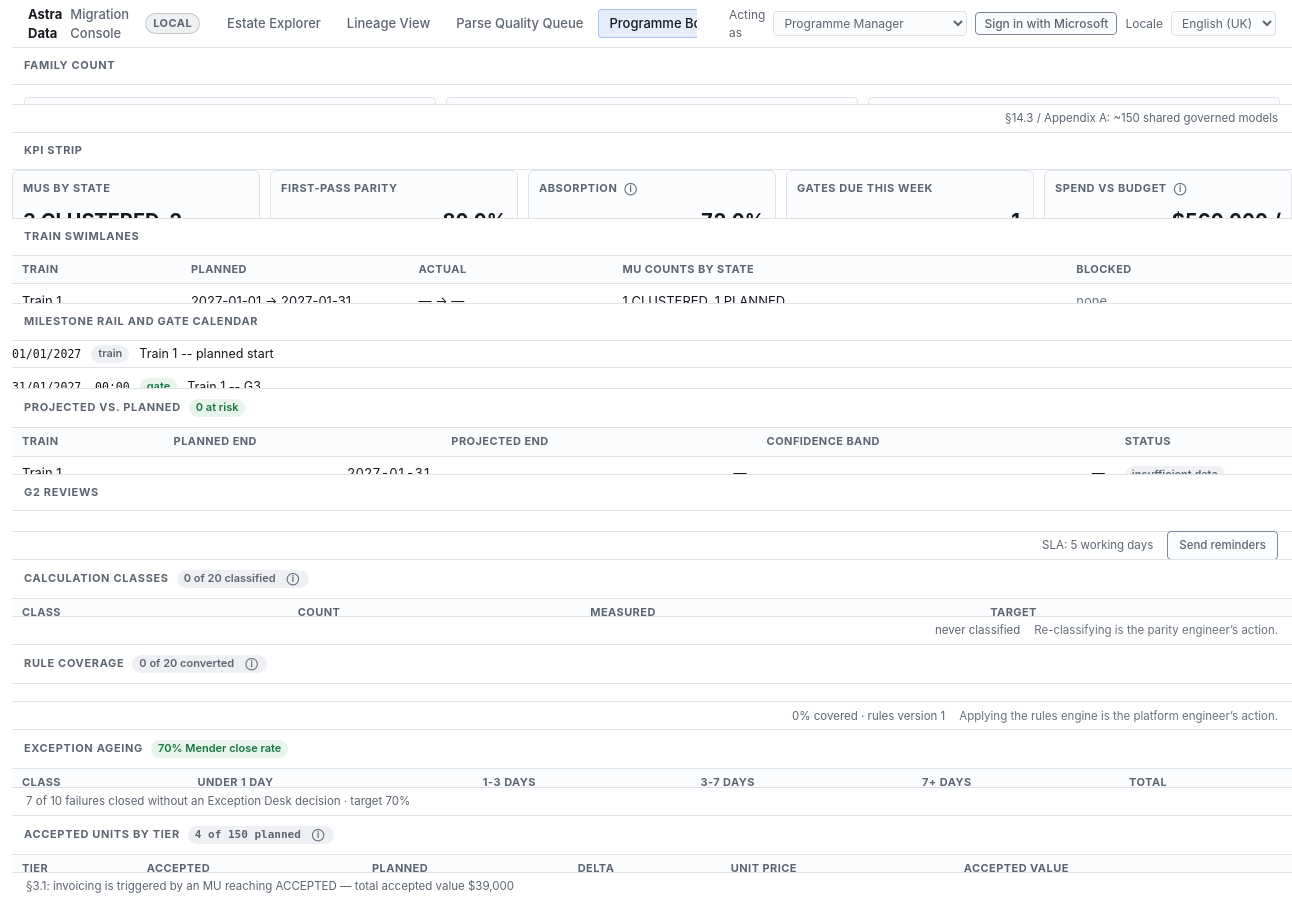
Entra configured, signed out › signing in shows the signed-in name and a Sign out button
expect the element named "Family count calibration" is shown: met, box [12,48,1291,132]
Click the button "Sign in with Microsoft". click: (1046, 24)
box: [975,12,1117,35]
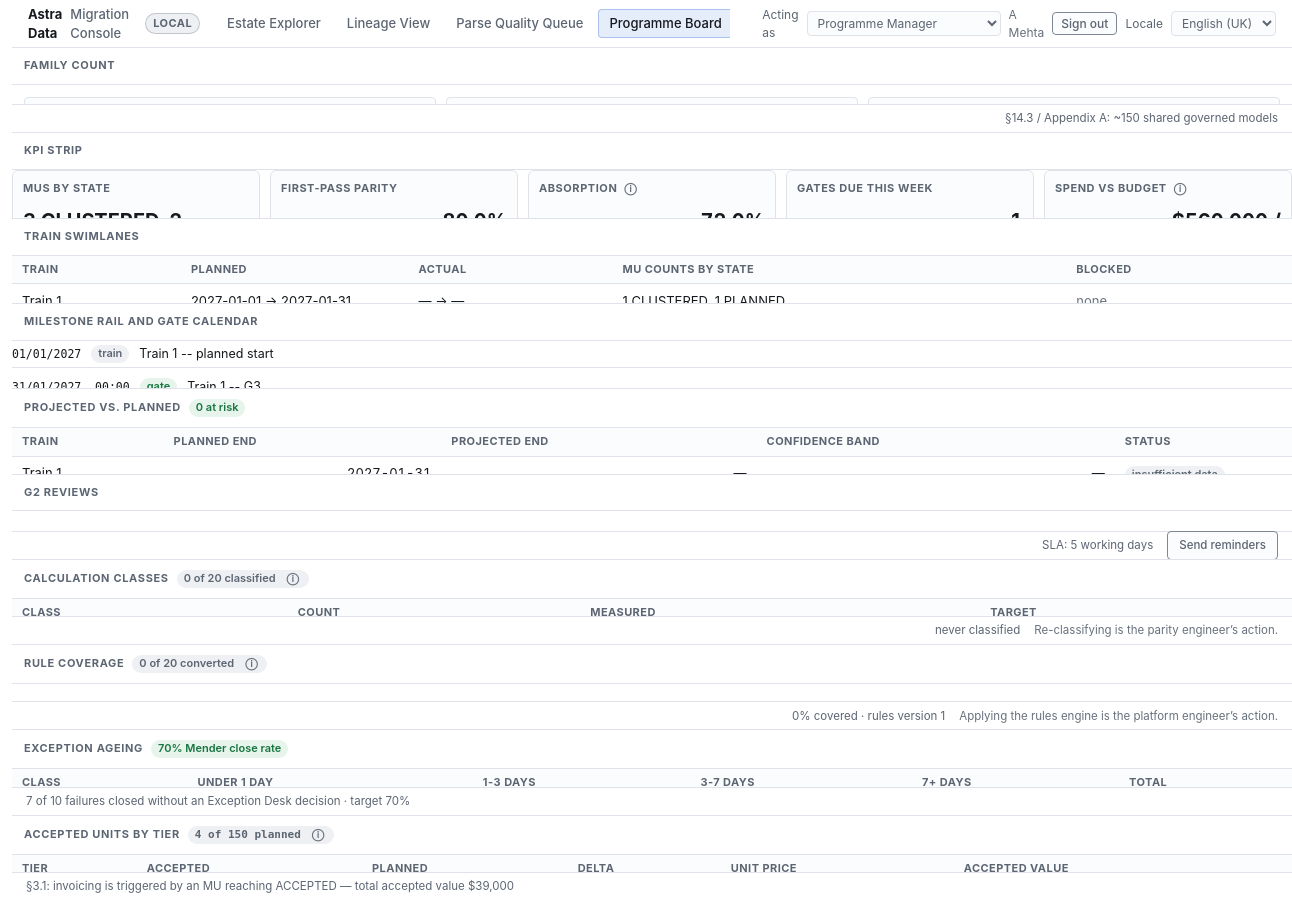
expect the text "A Mehta" is shown: met, box [1009,6,1044,41]
expect the button "Sign out" is shown: met, box [1052,12,1117,35]
